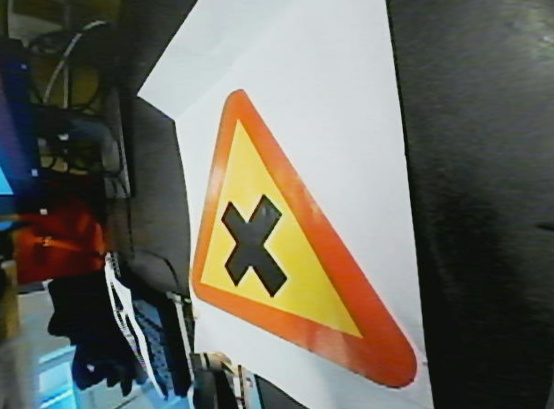junction: (177, 83, 421, 394)
